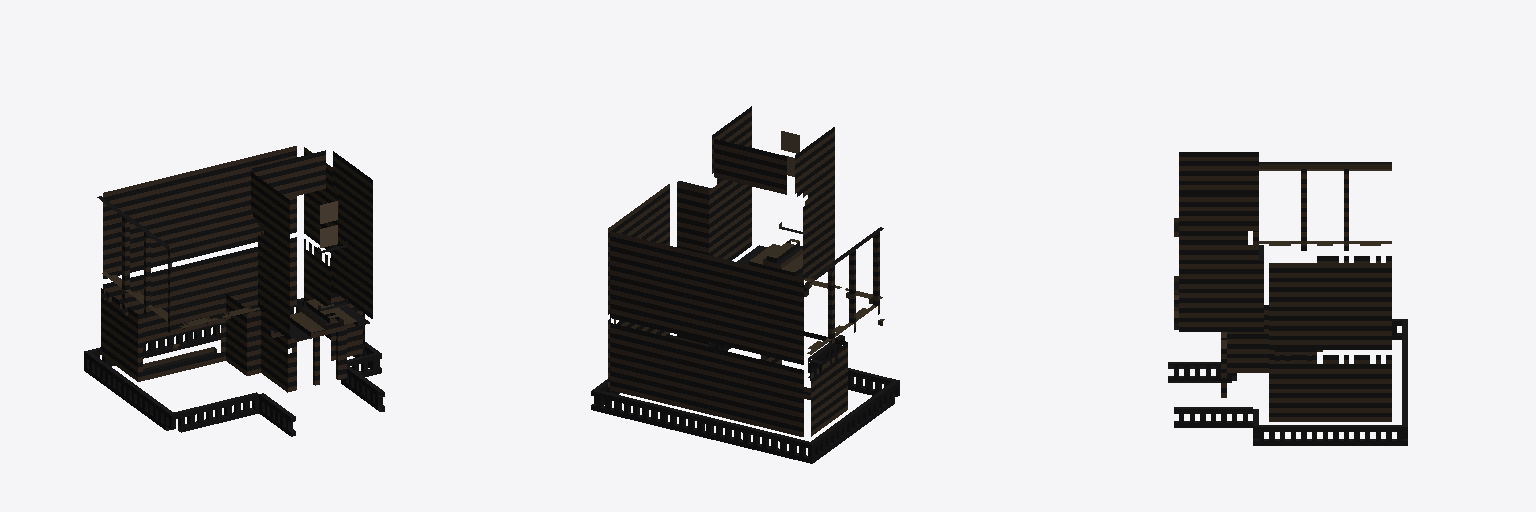
The picture shows the model from 3 angles: view 1: azimuth 30°, elevation 25°; view 2: azimuth 150°, elevation 25°; view 3: azimuth 270°, elevation 25°; orthographic projection.
Visible parts, largest first — view 1: candy2; view 2: candy2; view 3: candy2.
Boxes of the visible parts, box(x1,y1,x2,y2) form: candy2: box(84, 146, 384, 436); candy2: box(591, 106, 899, 463); candy2: box(1168, 152, 1407, 445).
Size of the model in its own units: 49 by 56 by 48.
1 materials, 1 textured.